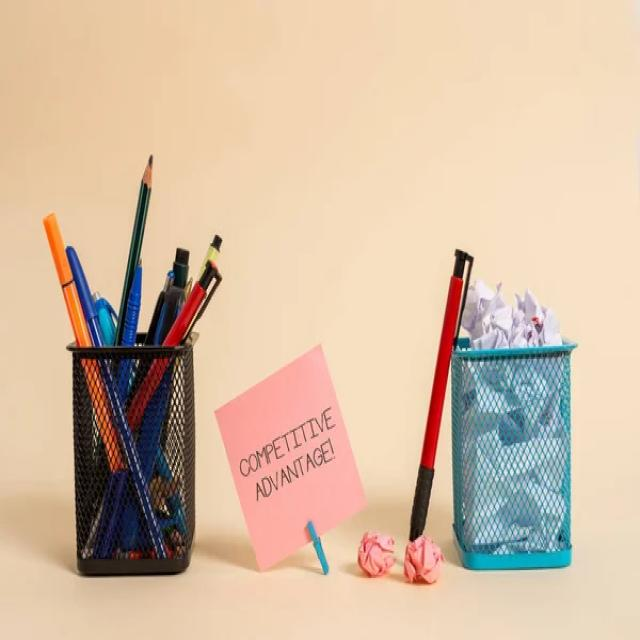pencil: (93, 145, 157, 479)
